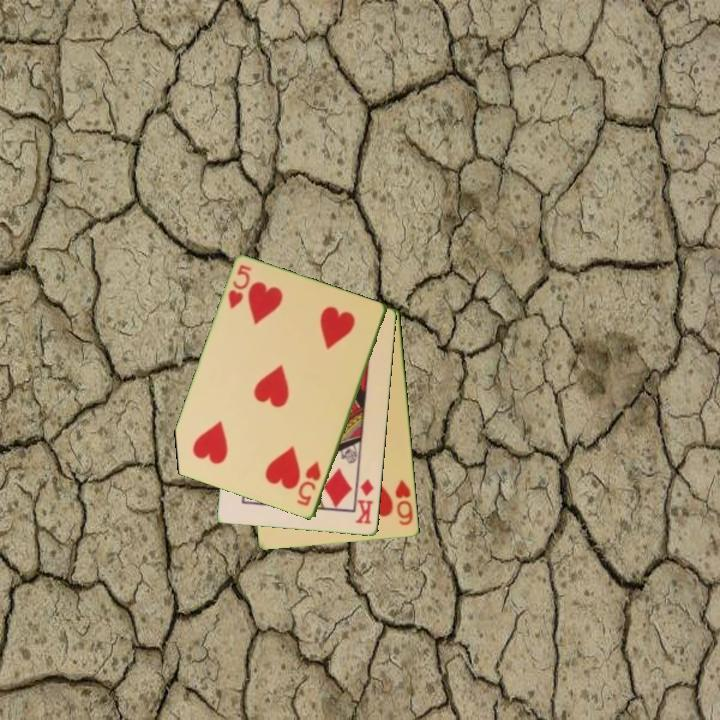5h: (294, 458, 324, 509), (225, 261, 254, 312)
6h: (392, 477, 416, 528)
Kd: (352, 476, 377, 527)
